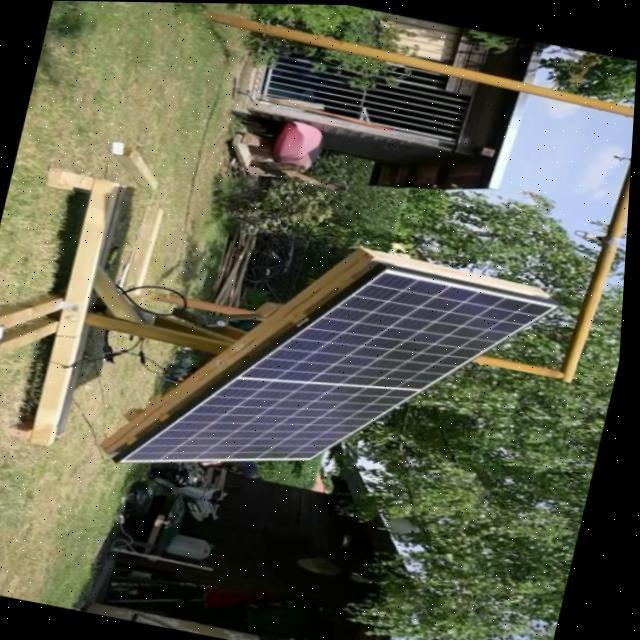Normal Solar Panel: (118, 225, 560, 534)
